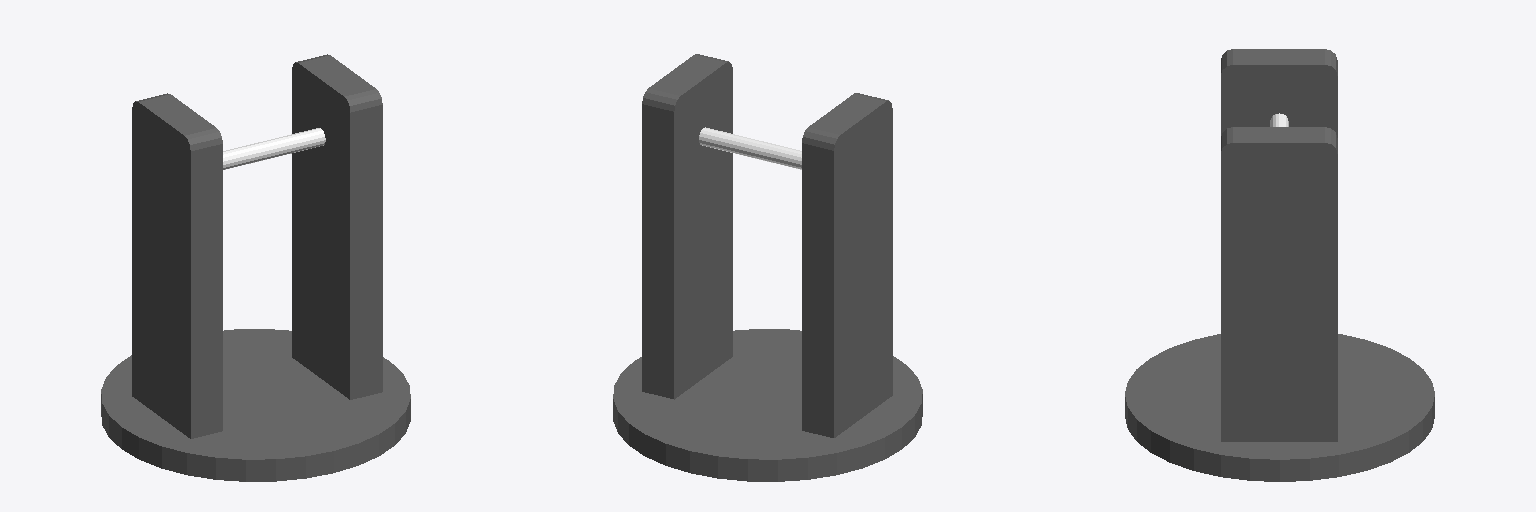
File: arm-base.obj
The picture shows the model from 3 angles: view 1: azimuth 30°, elevation 25°; view 2: azimuth 150°, elevation 25°; view 3: azimuth 270°, elevation 25°; orthographic projection.
Visible parts, largest first — view 1: Cube.002, Cube.001, ArmBase_Cylinder, ArmPin_Cylinder.006; view 2: Cube.002, Cube.001, ArmBase_Cylinder, ArmPin_Cylinder.006; view 3: Cube.001, ArmBase_Cylinder, Cube.002.
Part boxes in pixels (x1,y1,x2,y2): Cube.002: (132,93,222,438); Cube.001: (292,54,382,399); ArmBase_Cylinder: (101,329,410,481); ArmPin_Cylinder.006: (223,128,325,169); Cube.002: (802,93,892,437); Cube.001: (642,54,732,399); ArmBase_Cylinder: (613,329,922,481); ArmPin_Cylinder.006: (699,127,801,169); Cube.001: (1221,127,1337,441); ArmBase_Cylinder: (1125,334,1434,481); Cube.002: (1221,49,1337,137).
Size of the model in its own units: 0.5 by 0.5709 by 0.5.